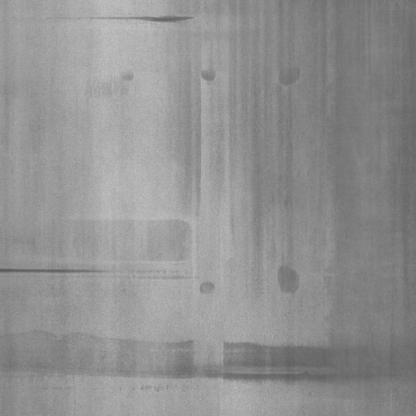crease: (0, 255, 212, 296), (80, 5, 206, 30)
